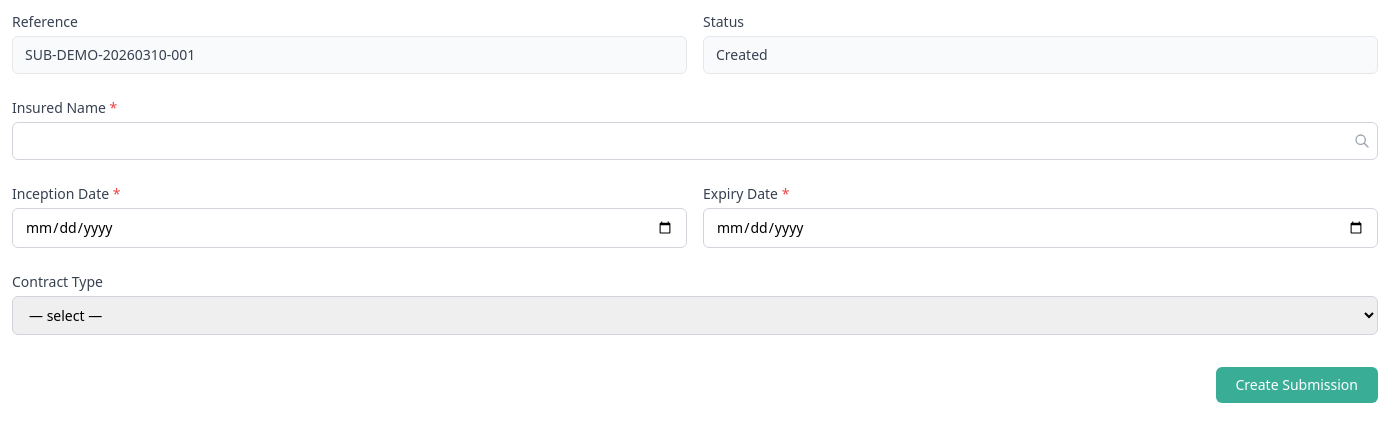
Test: T-FORM-submissions-R03: validation prevents submit on missing required fields › shows inception date error when inception is empty
The width and height of the screenshot is (1390, 444).
Type "Acme Corp" into the field labelled "Insured Name *" at point(695, 141), box [12,122,1378,160]
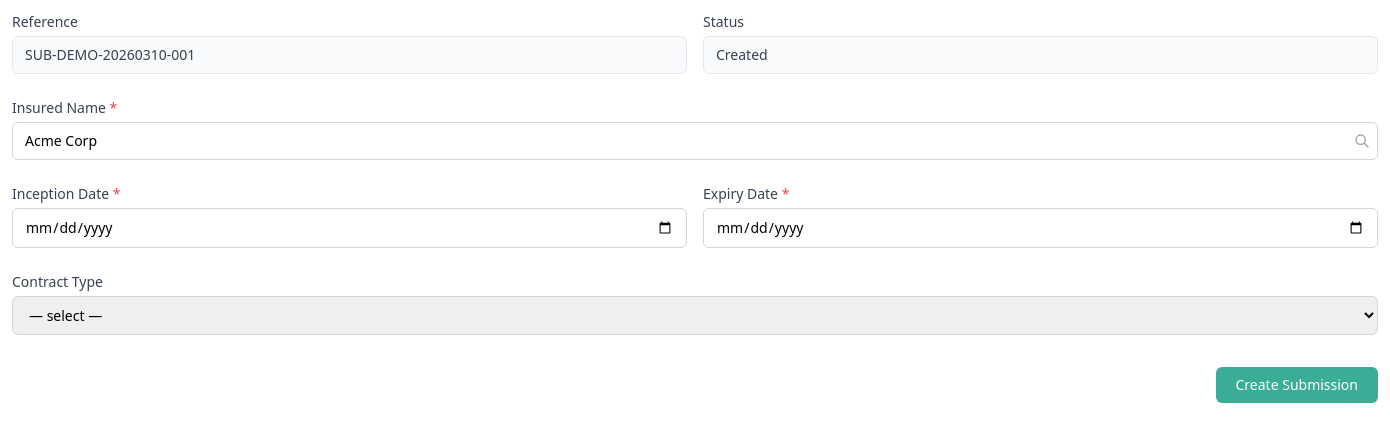
Click the button "Create Submission" at point(1297, 385), box [1216,367,1378,403]
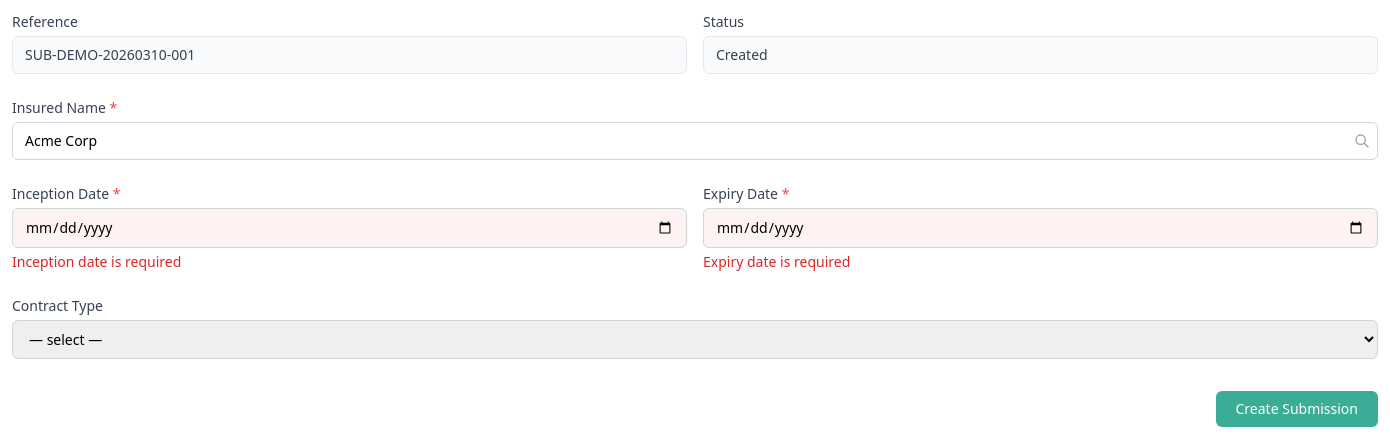
Expected: the text "Inception date is required" is shown, [12,252,181,271]
